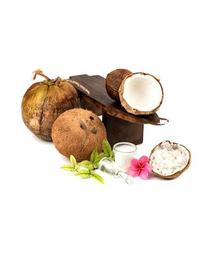coconut: (22, 78, 81, 144), (52, 107, 104, 163), (118, 70, 165, 116), (147, 139, 192, 180)
